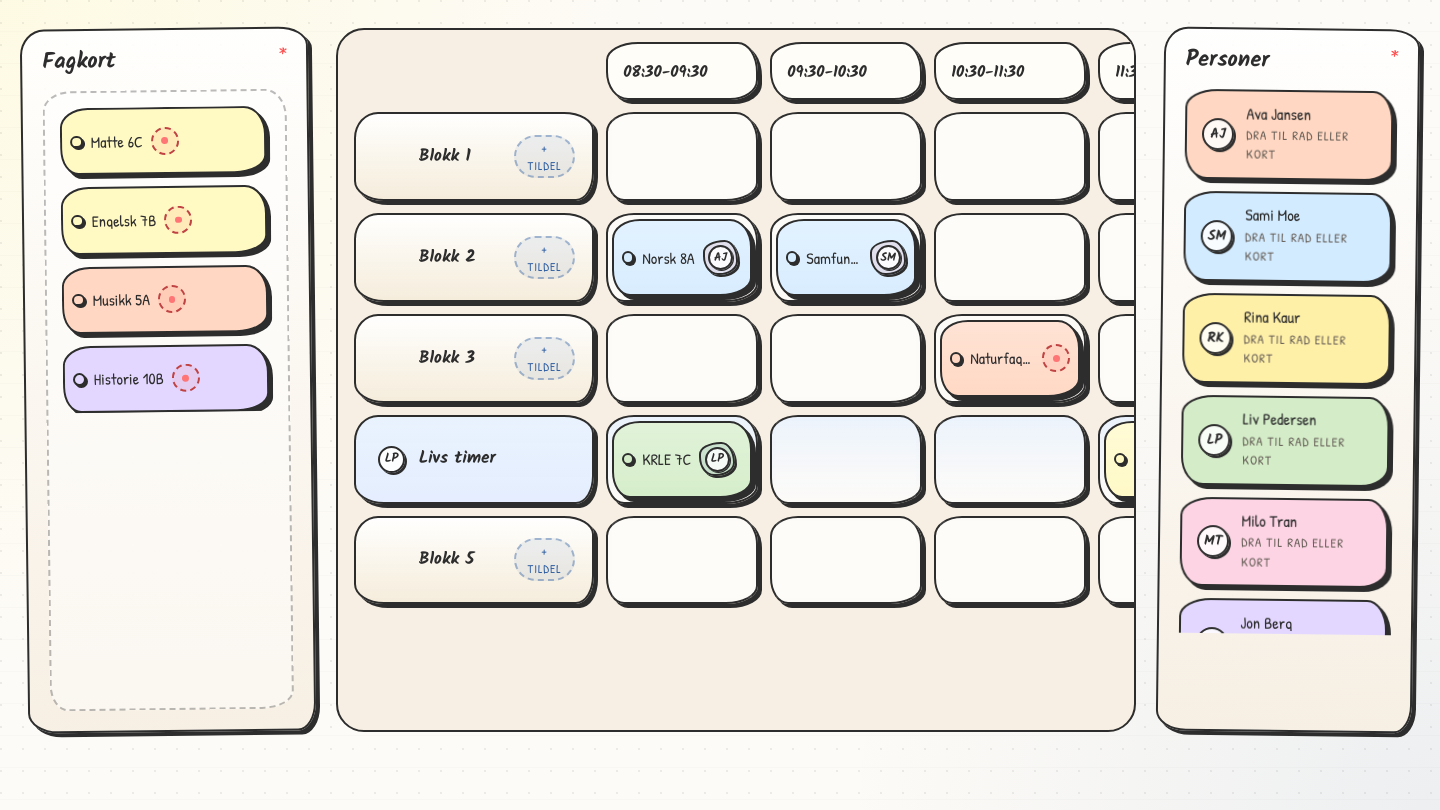
Test case: App › opens task details when a task card is clicked
Click the button with aria-label "kort norsk 8a": (682,258) [612,219,752,296]
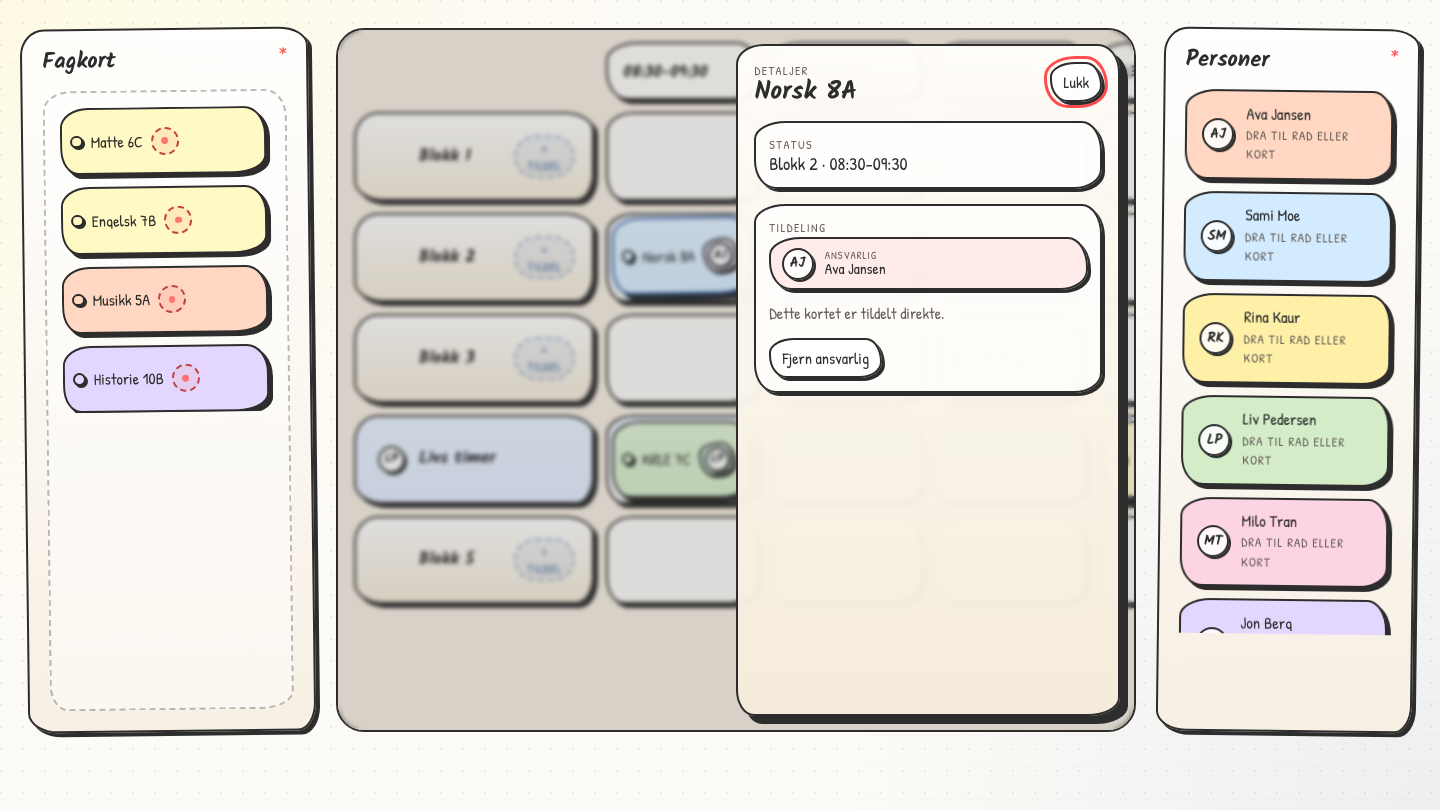
Result: the heading "Norsk 8A" is shown at [754,80,857,105]
Result: the text "Ansvarlig" is shown at [825,250,886,261]
Result: the text "Ava Jansen" below "Tildeling" is shown at [825,258,886,279]
